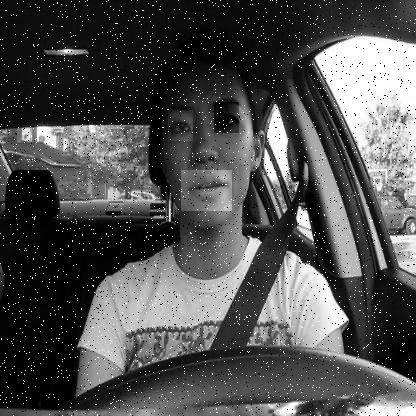seatbelt: (136, 14, 280, 348)
